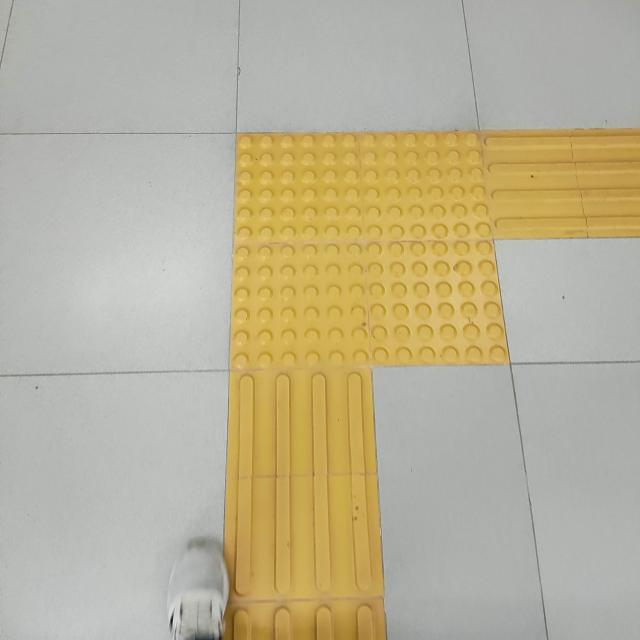kanan: (138, 67, 640, 454)
